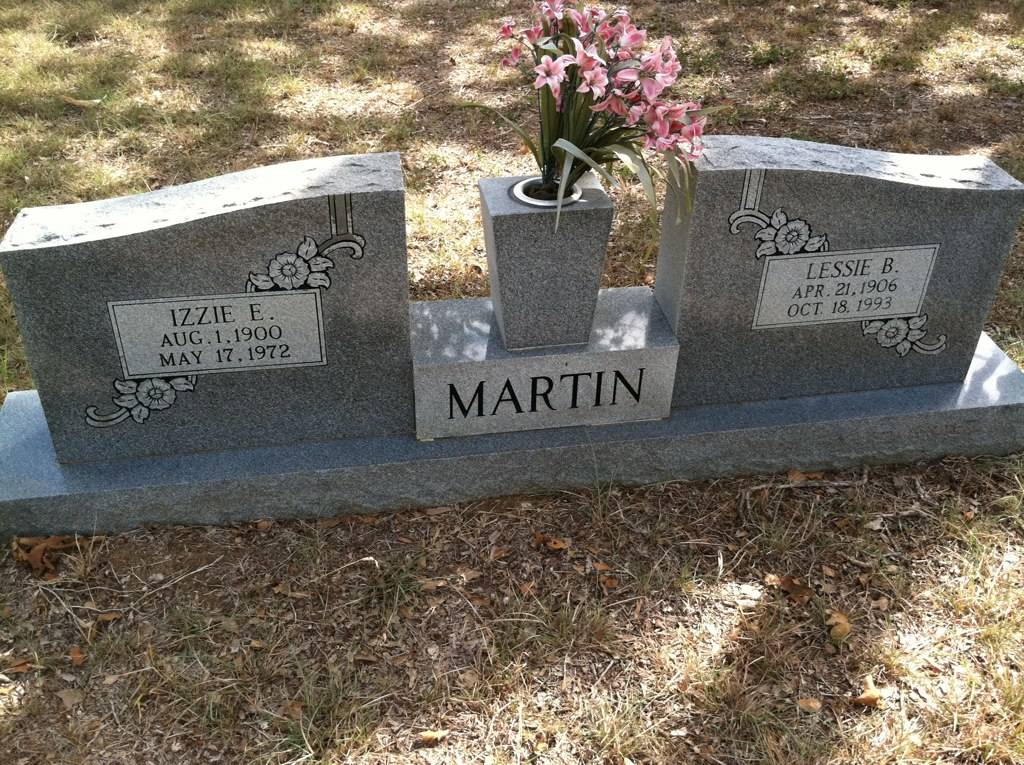upright: (0, 131, 1024, 521)
